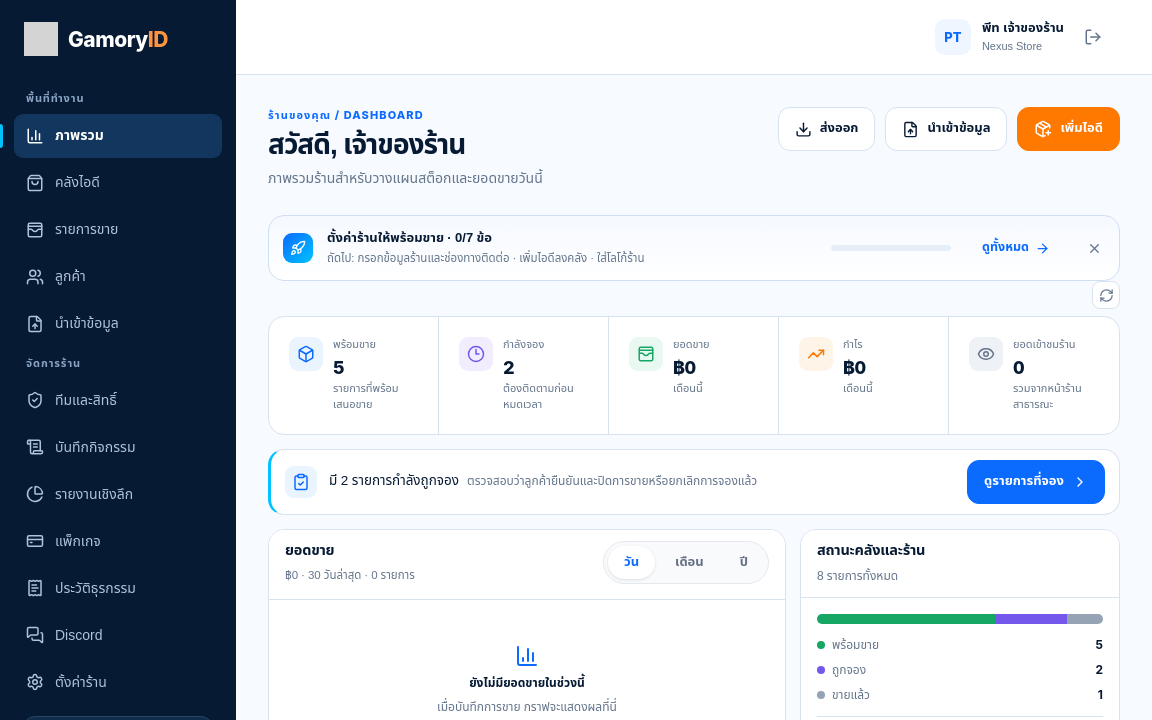
Test: inventory flow › มีตัวเลือก “ยังไม่เปิดขาย” ในฟอร์มเพิ่มไอดีและตัวกรองสถานะ
Click the button "เพิ่มไอดี".
click(1069, 129)  # box [1018,107,1120,151]
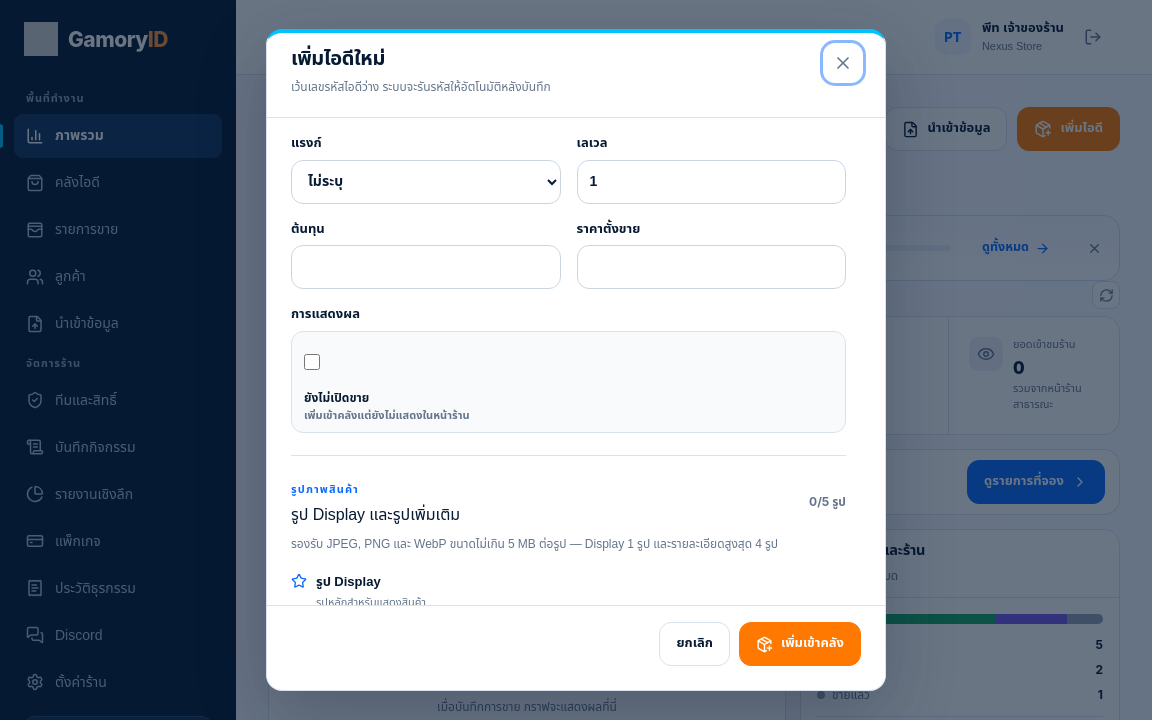
Expected: the text "เพิ่มเข้าคลังแต่ยังไม่แสดงในหน้าร้าน" is shown, [304,407,470,424]
Expected: the checkbox labelled "การแสดงผล ยังไม่เปิดขาย เพิ่มเข้าคลังแต่ยังไม่แสดงในหน้าร้าน" is shown, [304,340,320,384]
